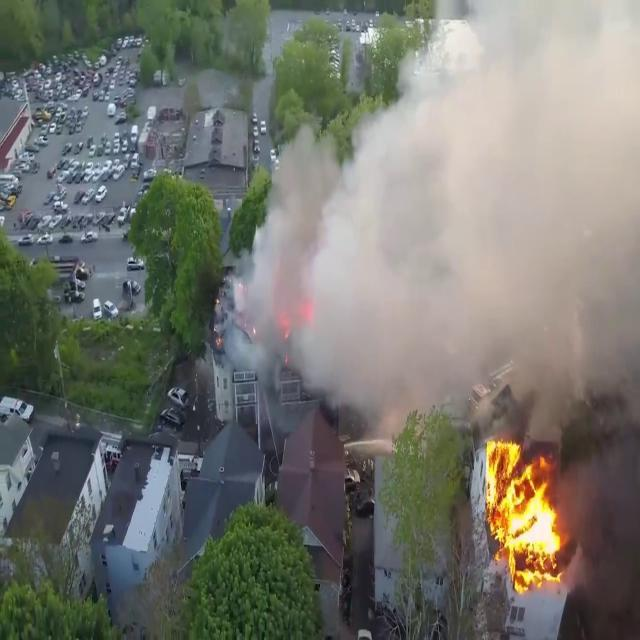Fire: (478, 431, 570, 585)
Smoke: (227, 0, 640, 430)
